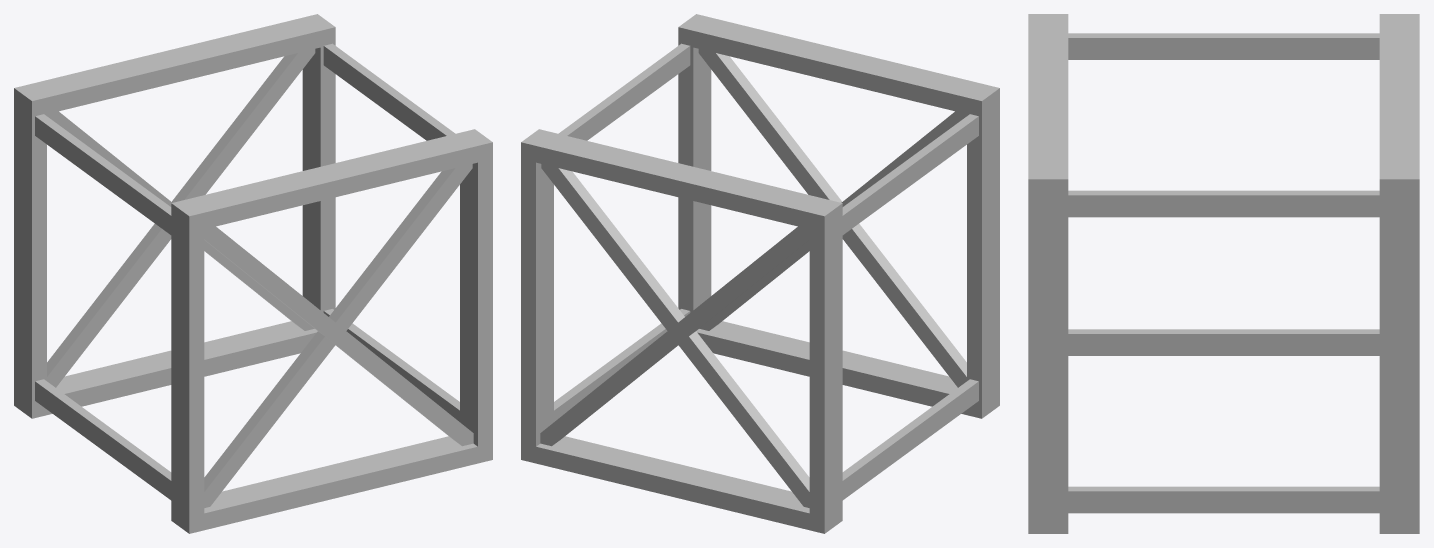
Rendered from Scene_Farm_01.fbx.
The picture shows the model from 3 angles, left to right: view 1: azimuth 30°, elevation 25°; view 2: azimuth 150°, elevation 25°; view 3: azimuth 270°, elevation 25°; orthographic projection. The views are drawn at different scales.
Parts seen in each view (by area): view 1: Scene_Farm_01; view 2: Scene_Farm_01; view 3: Scene_Farm_01.
Part boxes in pixels (box(x1,y1,x2,y2)): Scene_Farm_01: box(14, 14, 492, 533); Scene_Farm_01: box(521, 14, 999, 533); Scene_Farm_01: box(1028, 14, 1419, 533).
Size of the model in its own units: 0.5 by 0.5 by 0.5.
